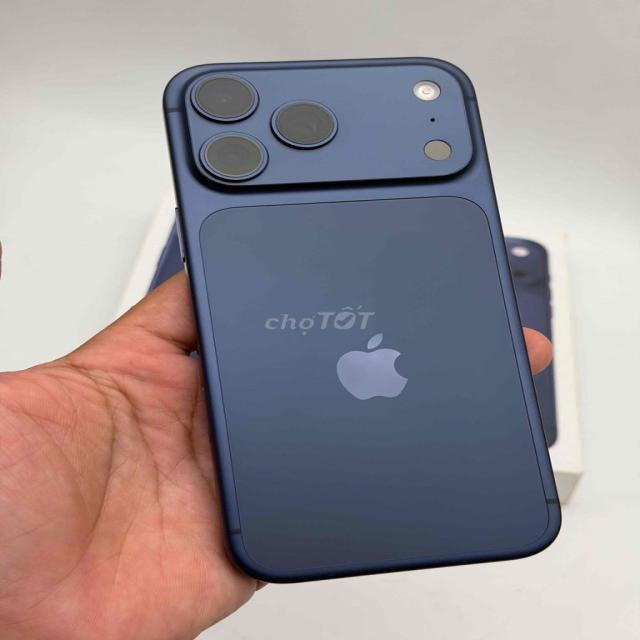gen_17: (148, 46, 582, 583)
